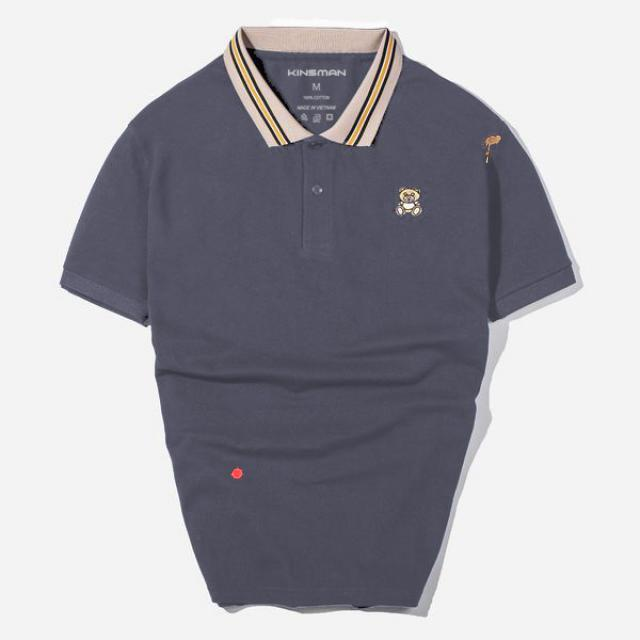stain: (480, 130, 507, 170), (229, 458, 252, 485)
